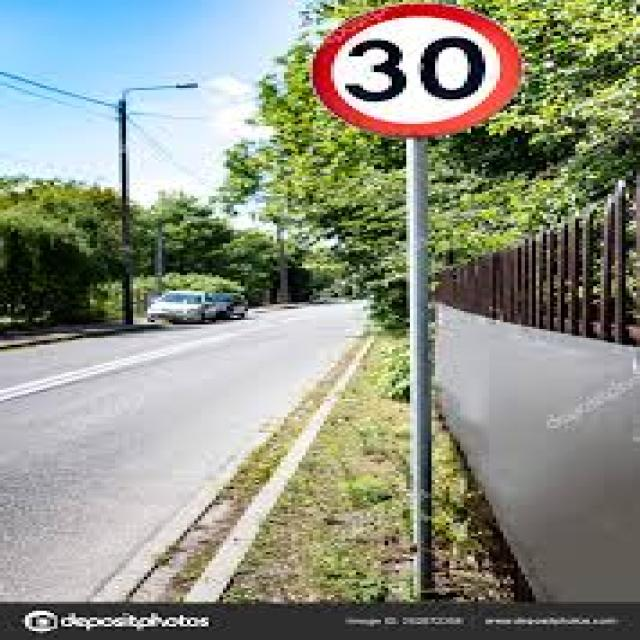Speed limit 30: (306, 1, 526, 138)
